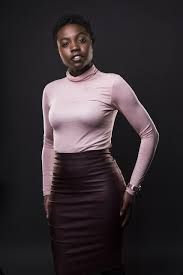no-mask: (37, 11, 106, 69)
